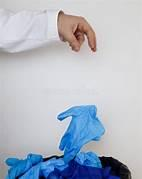Glove: (57, 105, 104, 162), (5, 154, 42, 178), (75, 152, 101, 167)
